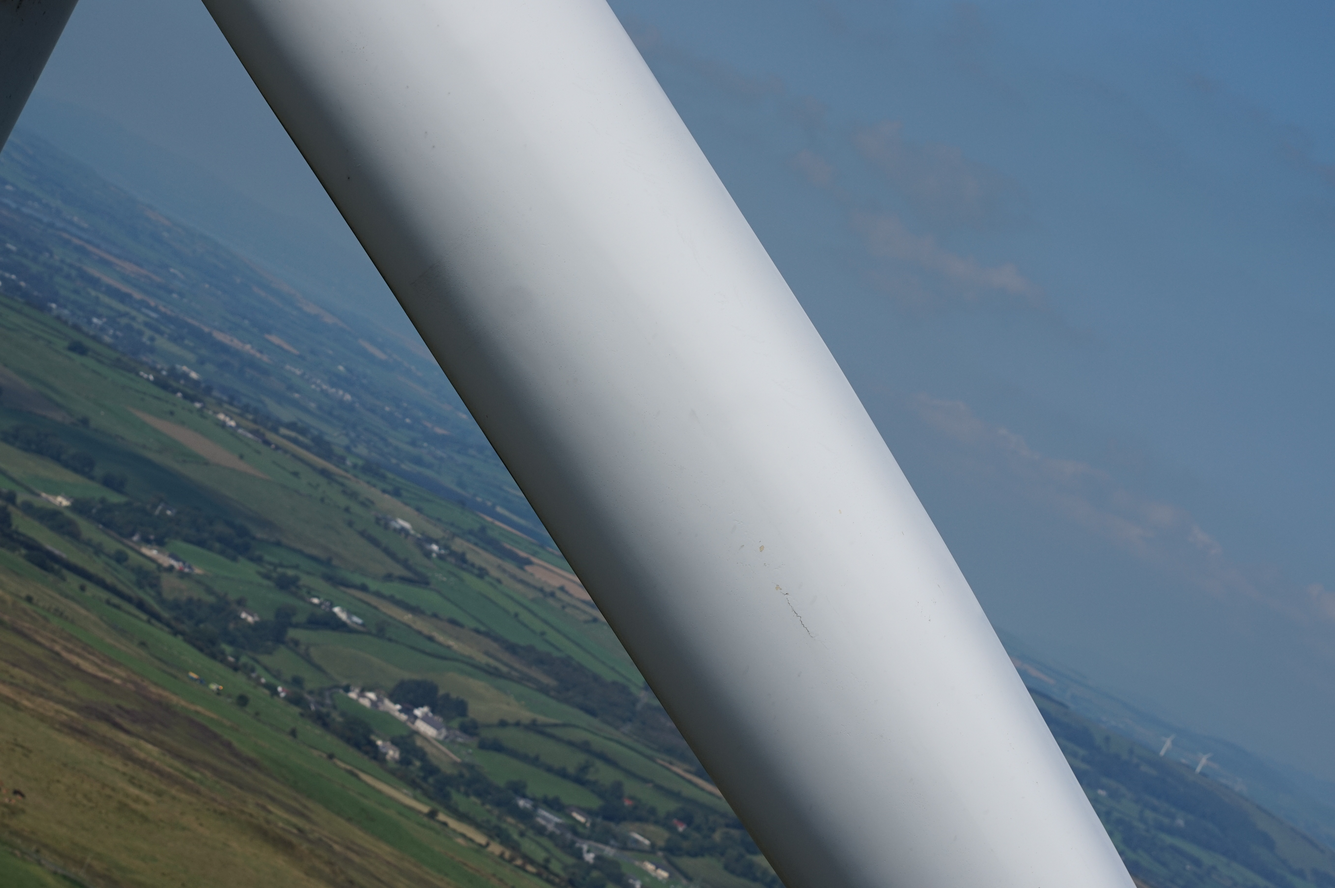Damage: (775, 584, 816, 639)
